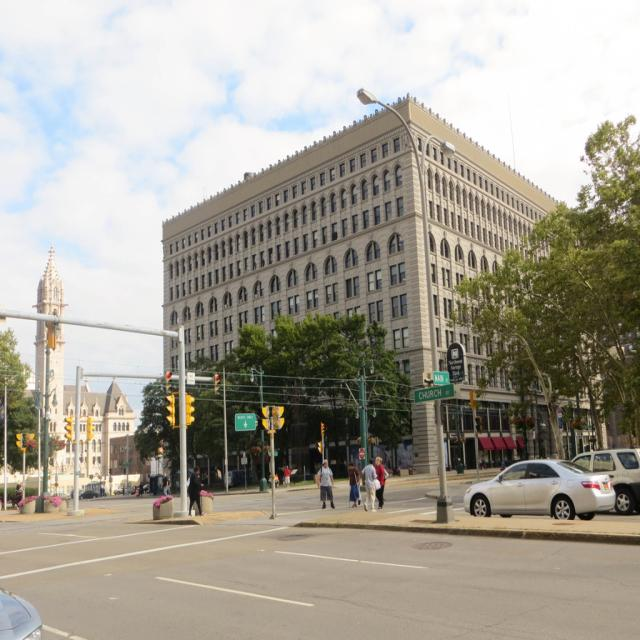car: (461, 455, 614, 523)
